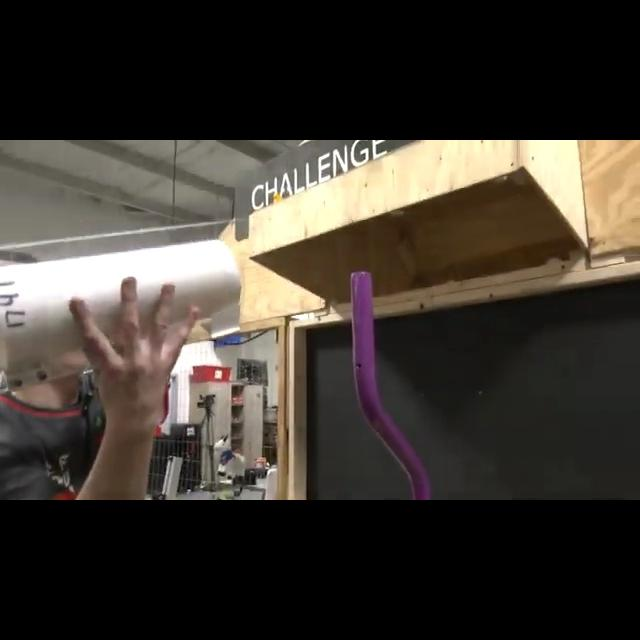CORAL: (0, 237, 240, 389)
